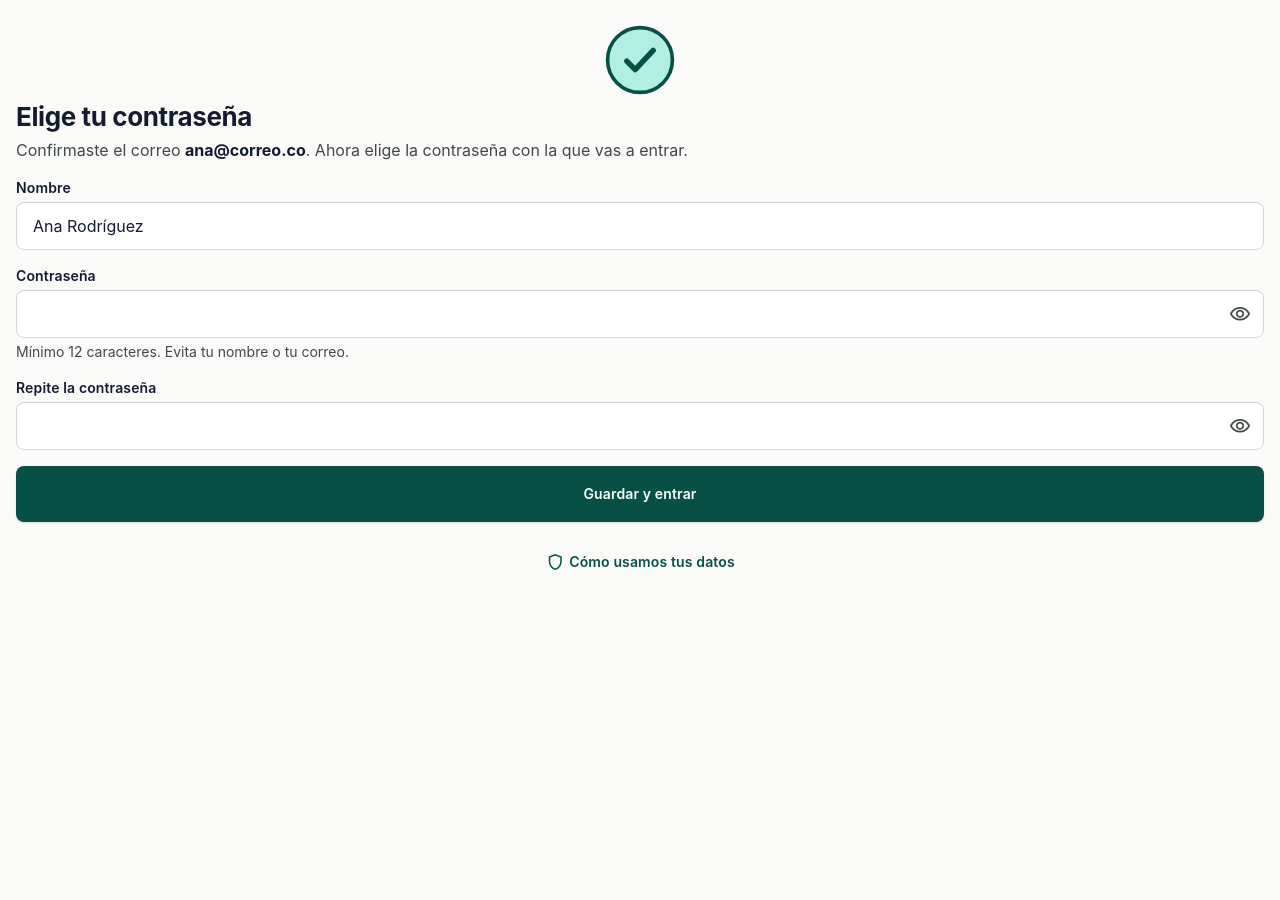
Test: un 422 CONTRASENA_DEBIL muestra el mensaje de la API
In the password field labelled "Contraseña": (640, 314) [16, 290, 1264, 338], type "una frase larga"
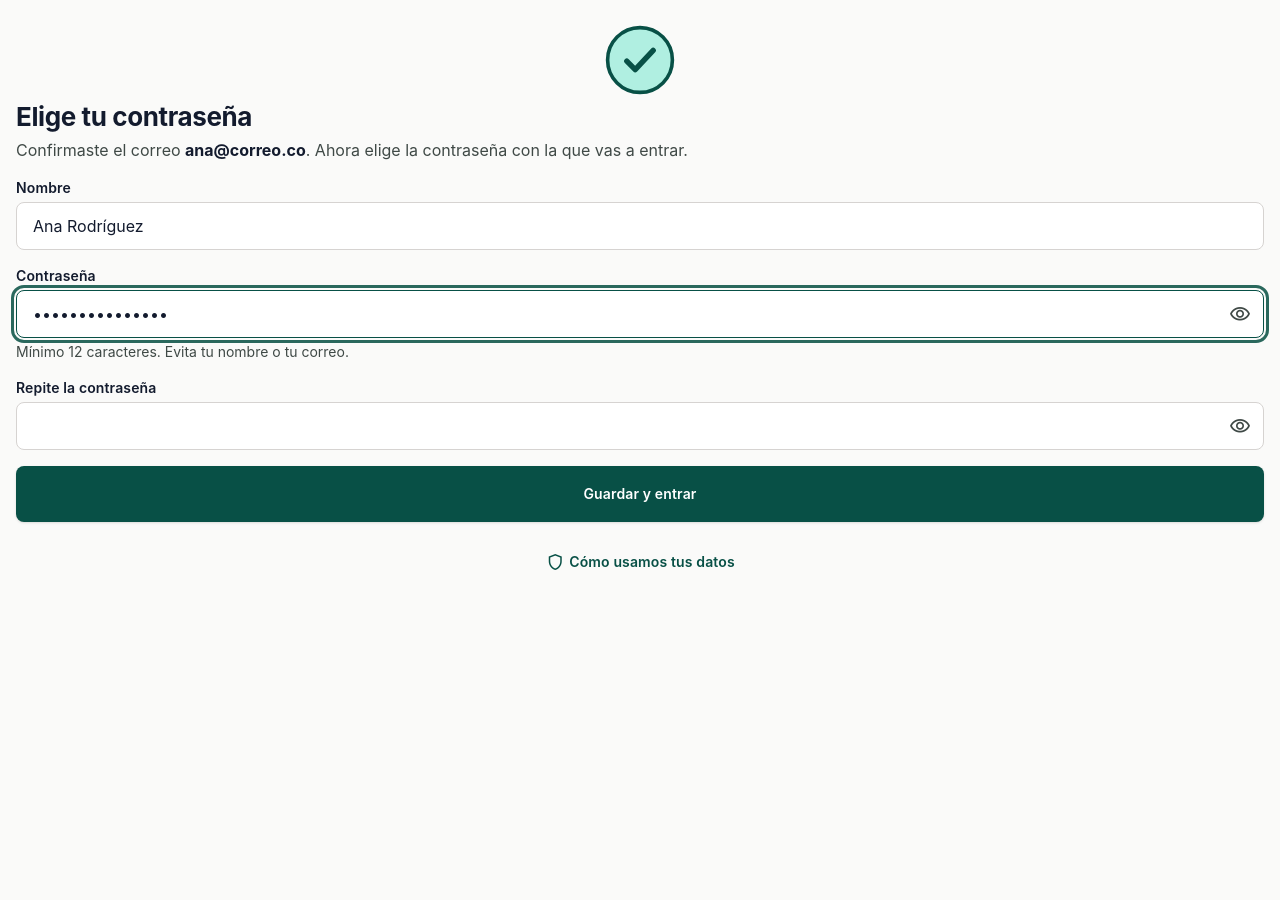
In the password field labelled "Repite la contraseña": (640, 426) [16, 402, 1264, 450], type "una frase larga"
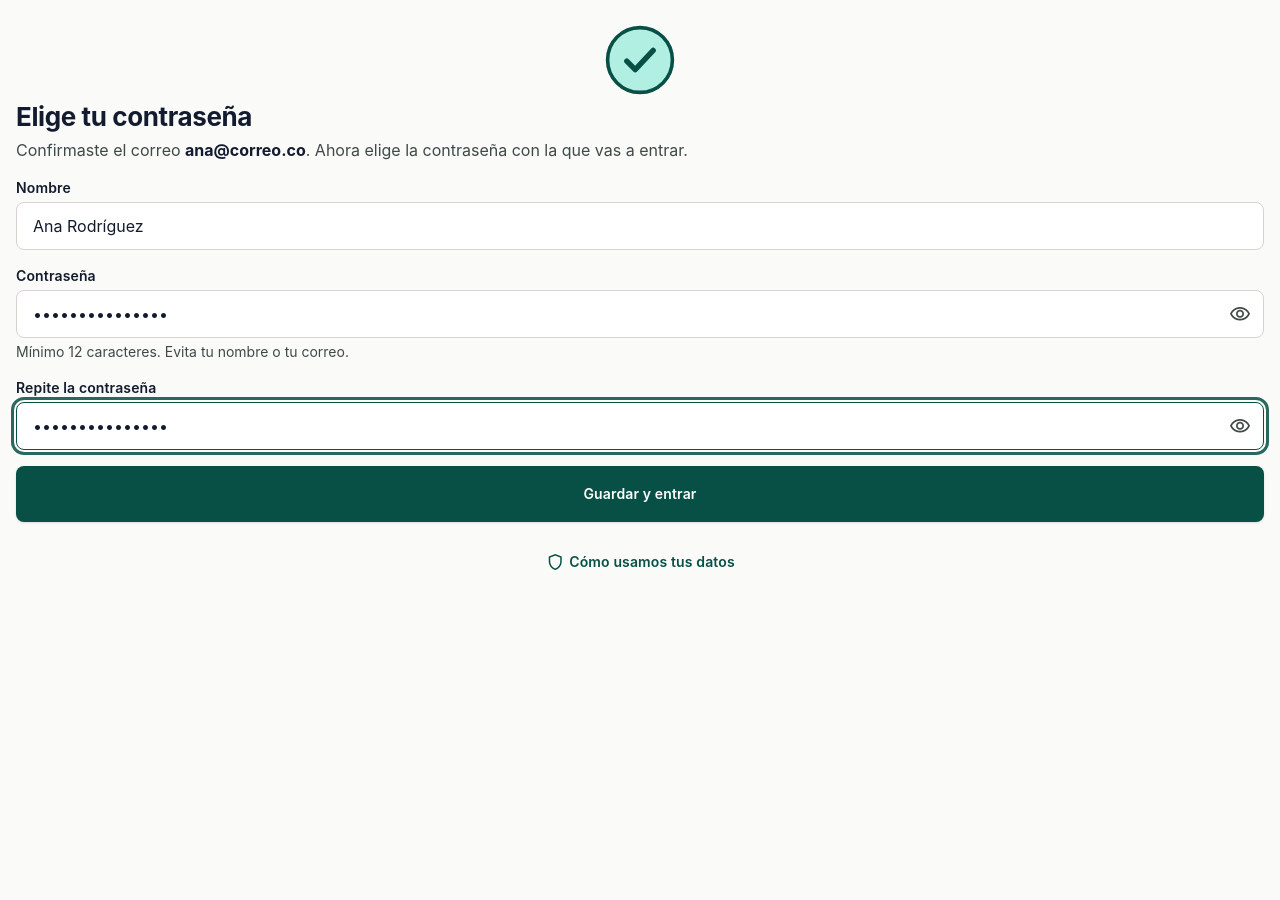
Click the button "Guardar y entrar": click(640, 494) [16, 466, 1264, 522]
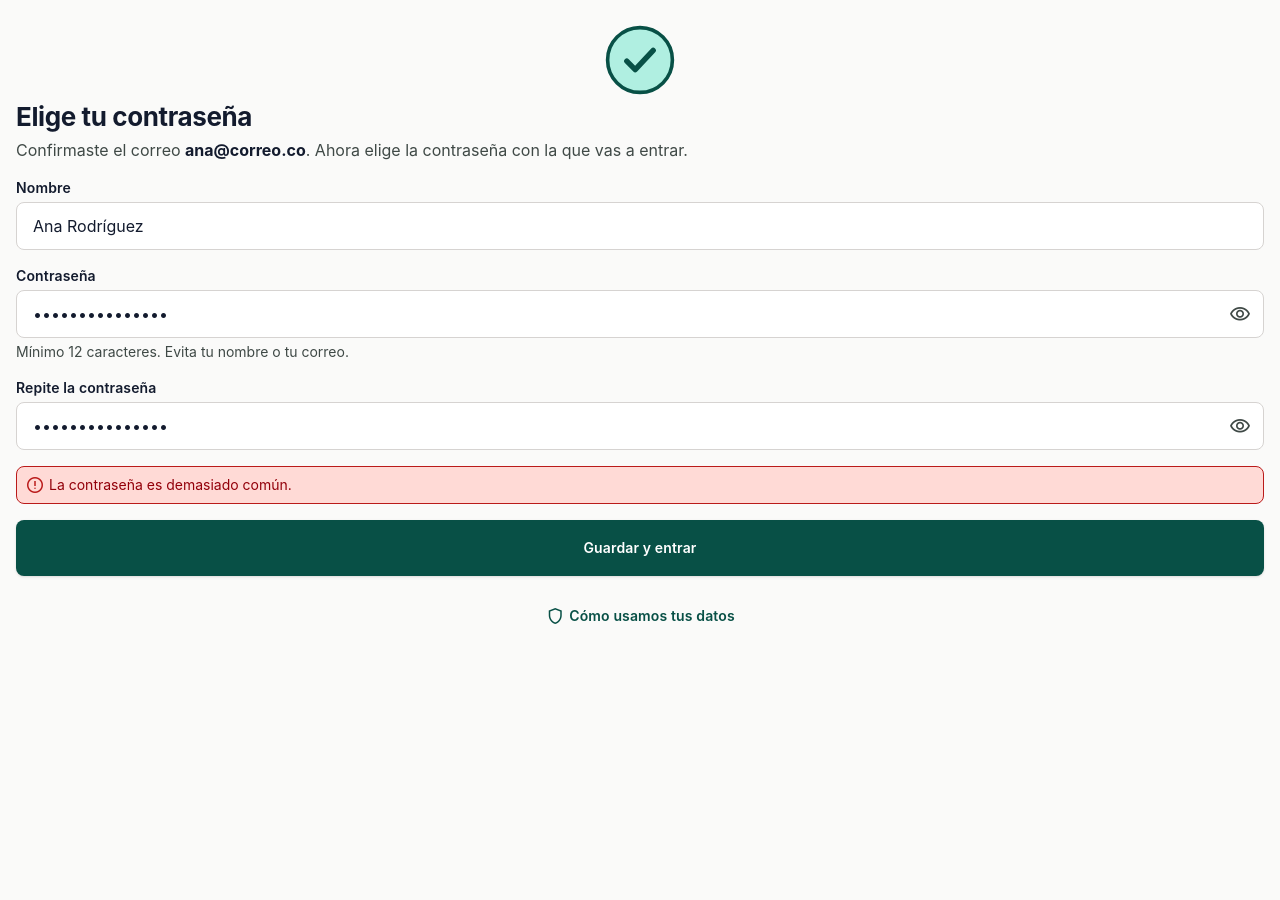
Expected: the message reads "La contraseña es demasiado común.", [49, 476, 292, 493]
